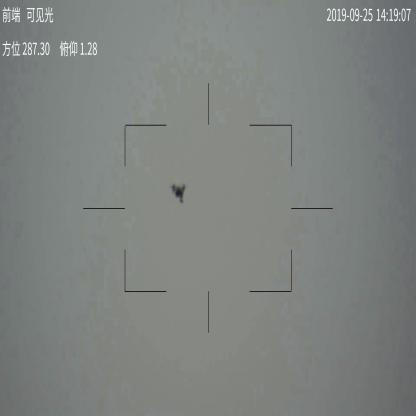uav: (170, 178, 186, 206)
